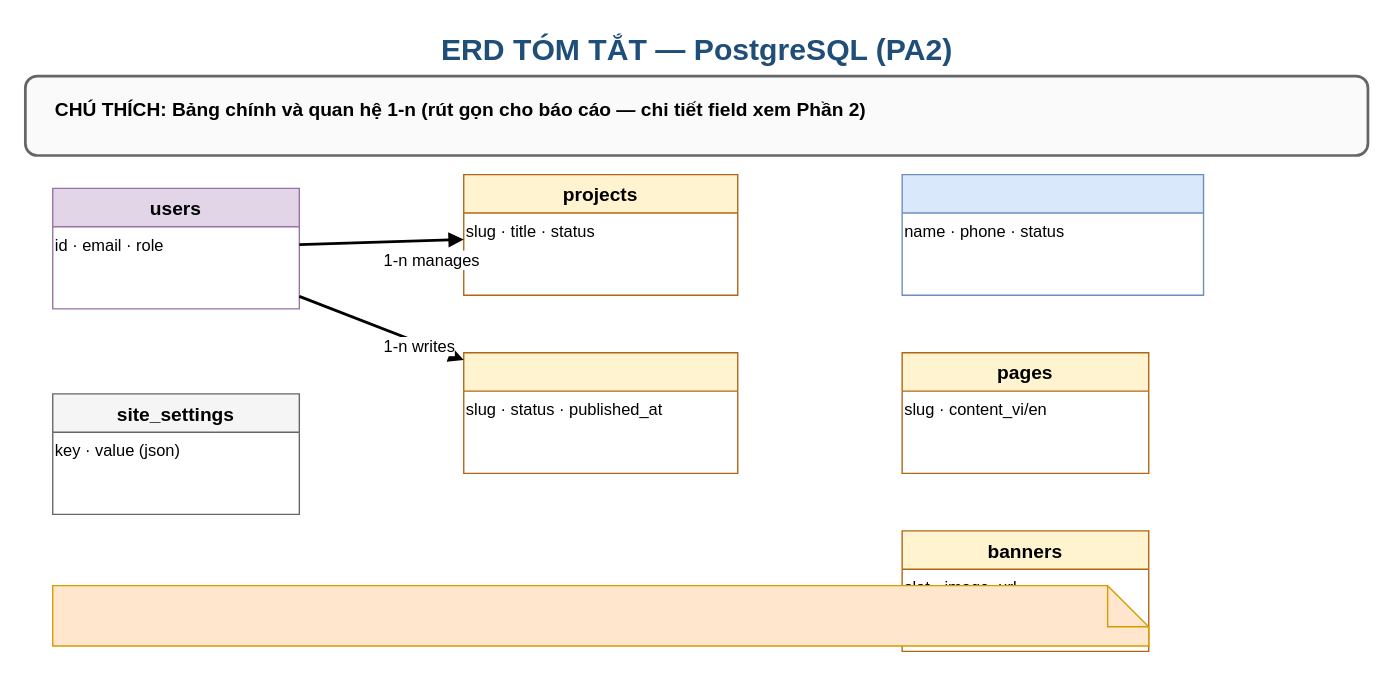
This 1392x675 diagram has some shape labels left out. Here are the shapes that lost their labels. From the top down, the box of each, then its label:
(901, 173, 1204, 295): contact_submissions
(462, 351, 738, 473): news_posts
(51, 584, 1149, 646): Ghi chú: scheduled_at trên news_posts phục vụ đặt lịch đăng bài Phase 2.
